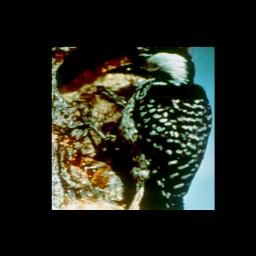Woodpecker: (61, 47, 212, 209)
